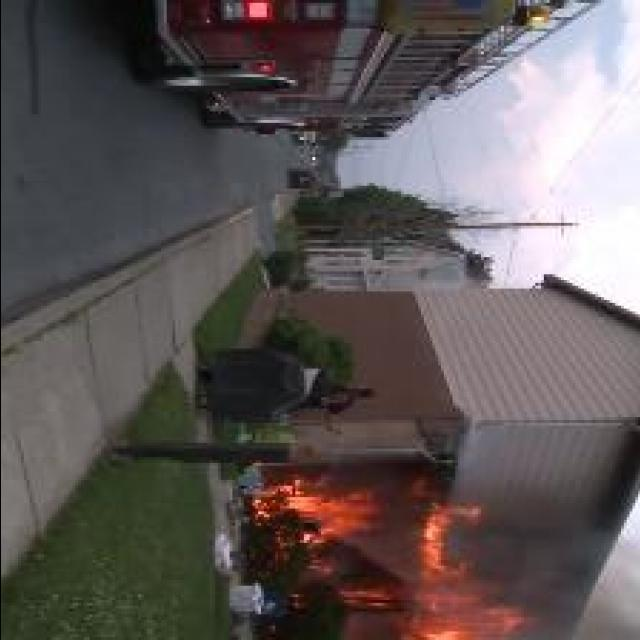Fire: (402, 505, 530, 640), (251, 477, 383, 549)
